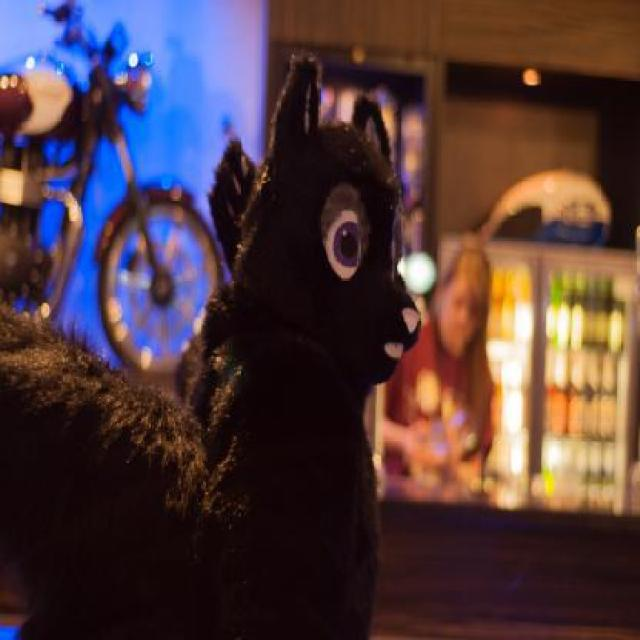Person: (368, 238, 497, 477)
